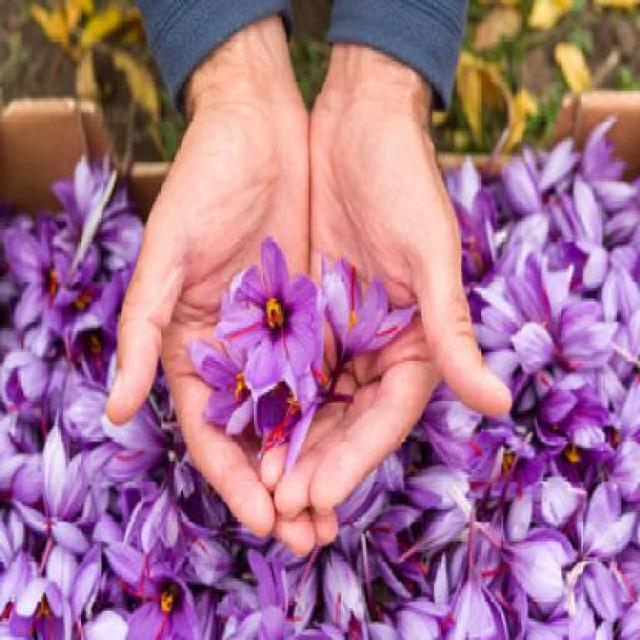Flower: (228, 236, 312, 381), (318, 252, 416, 362)
stigma: (259, 400, 298, 457), (223, 304, 274, 342), (346, 263, 362, 324)
